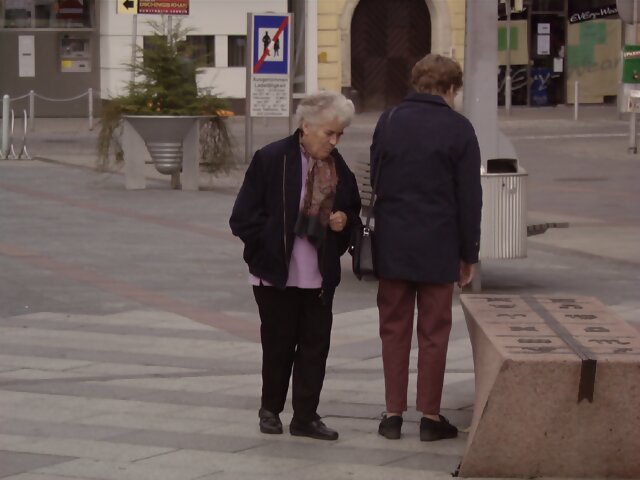person: (368, 50, 492, 436), (232, 88, 360, 444)
